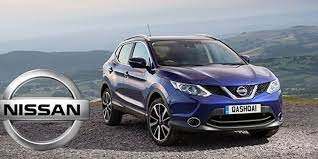Nissan: (103, 34, 282, 140)
